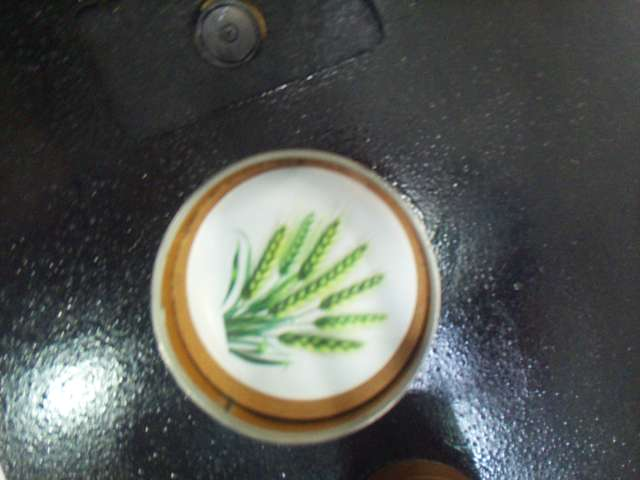wheat_barrel: (188, 168, 415, 399)
